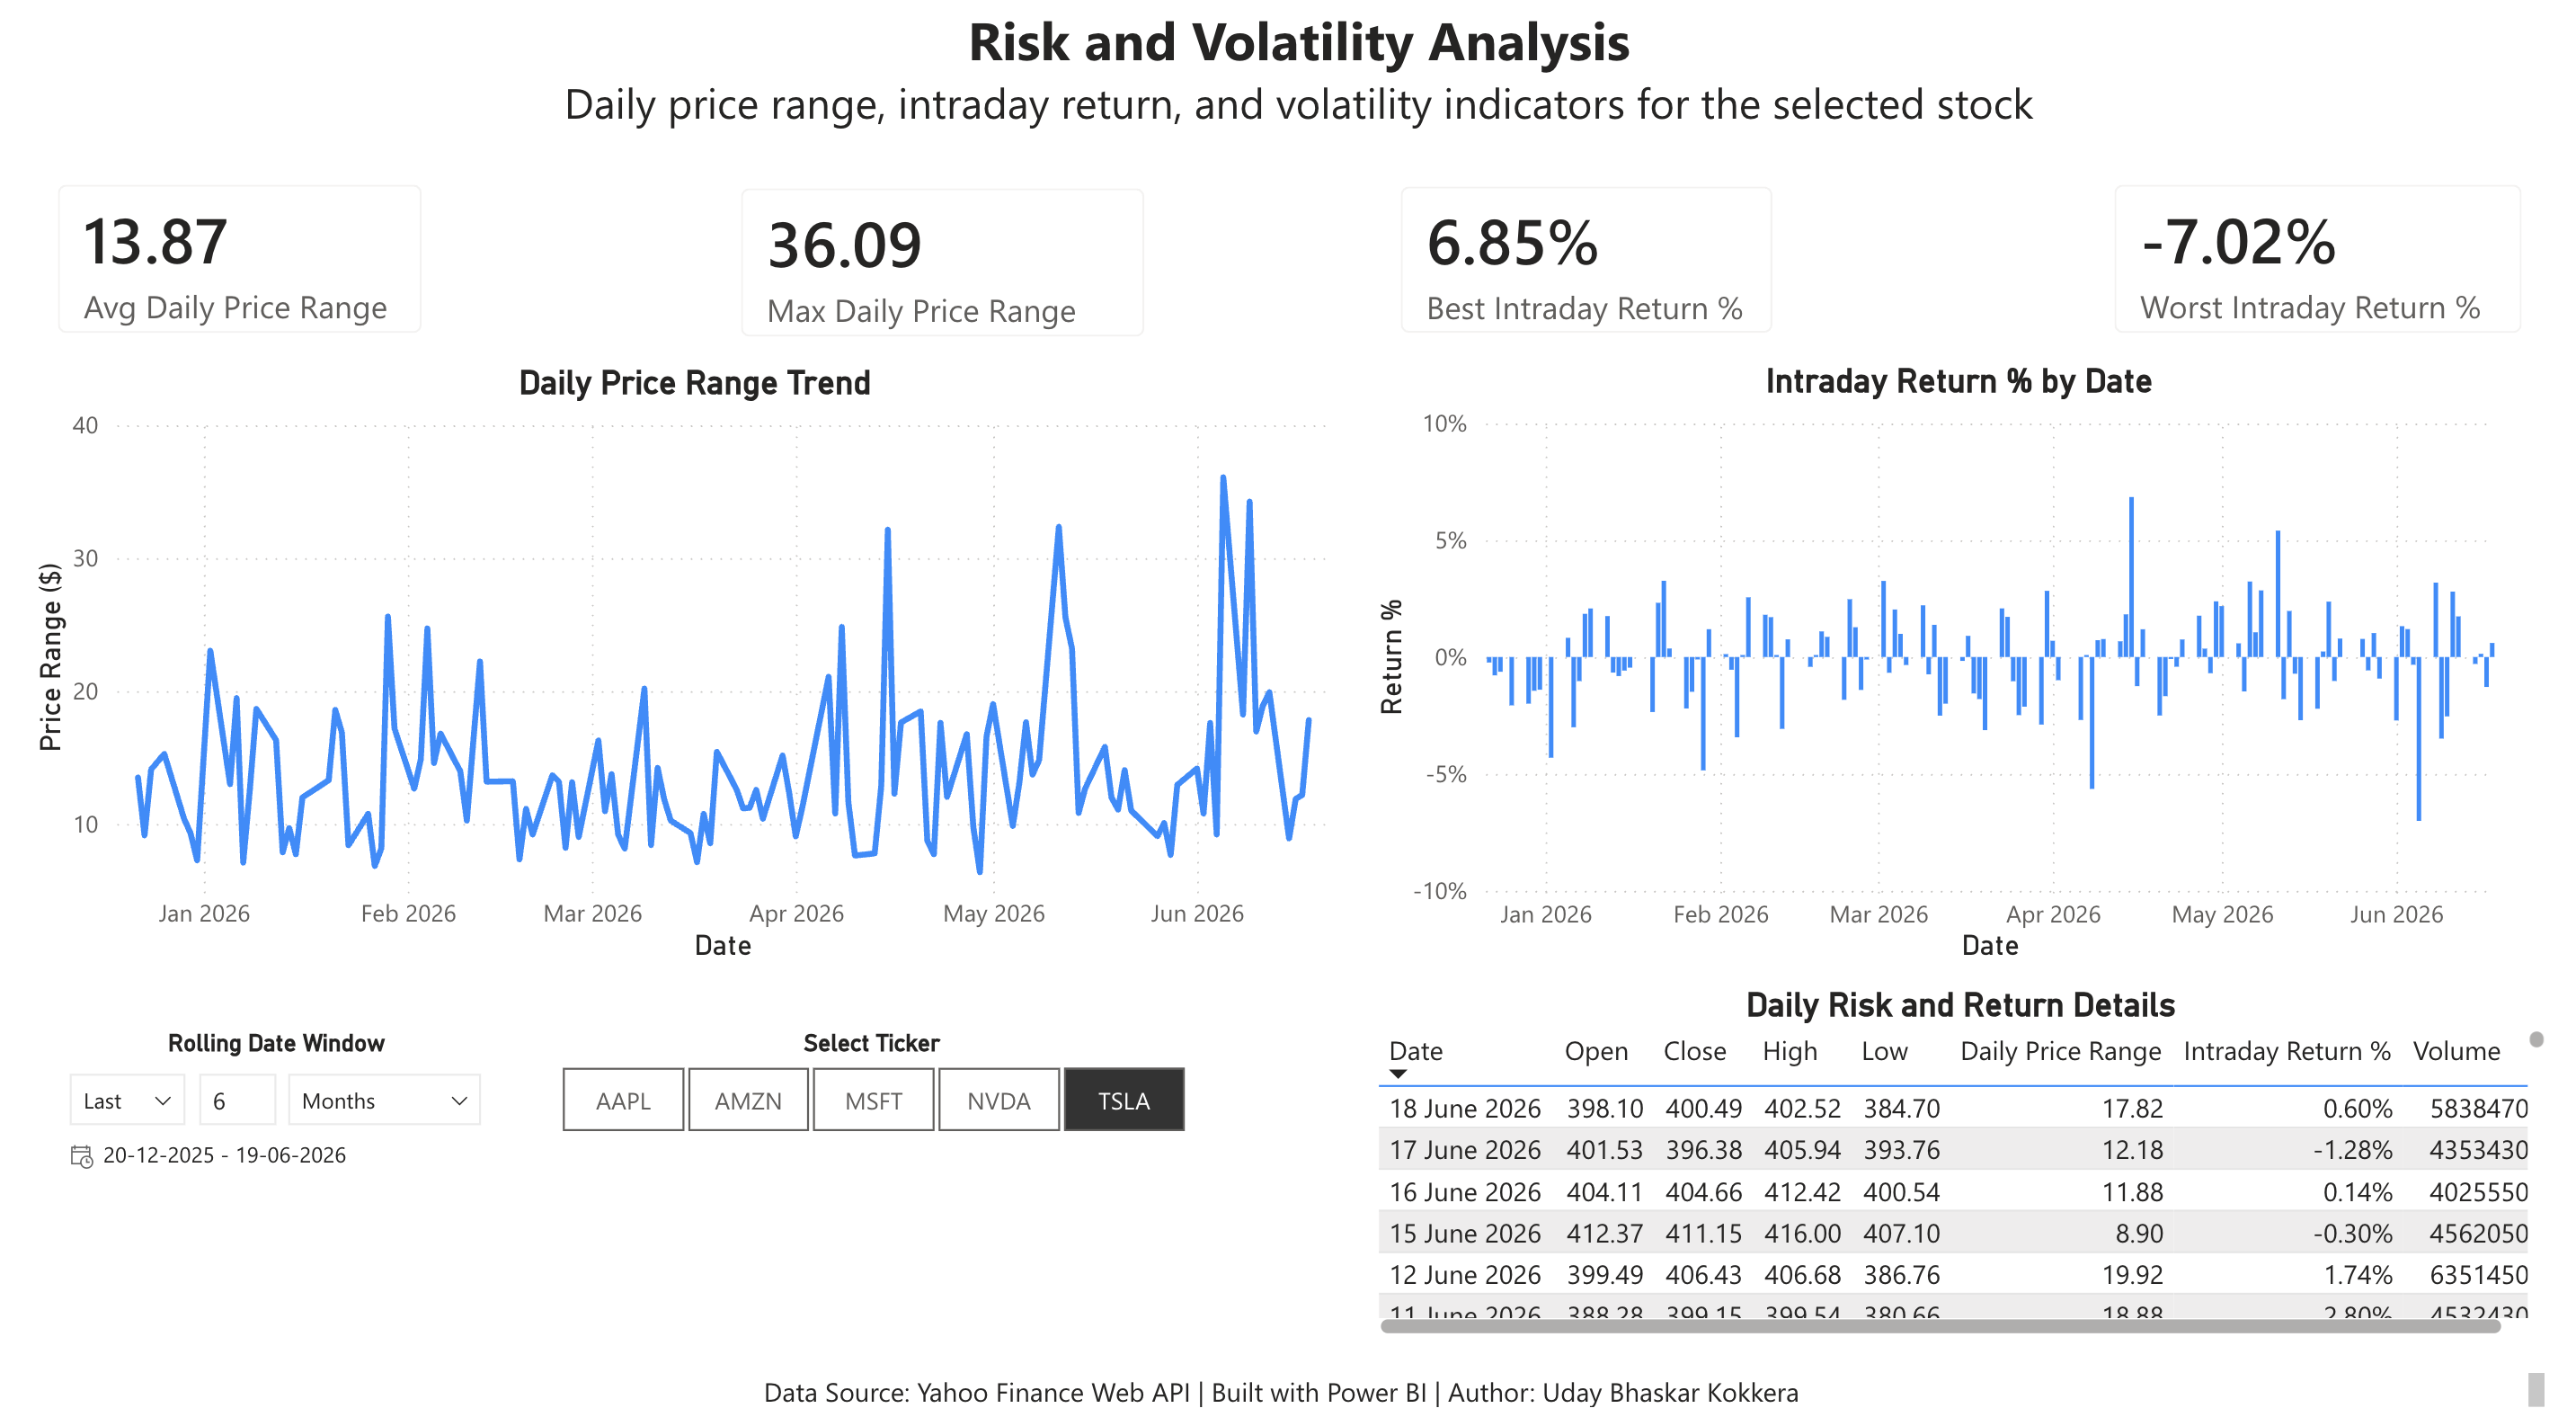

The dashboard page shown, as its layout file describes it:
{"tool":"powerbi","page":{"name":"Risk and Volatility Analysis","canvas":[1280,720],"ordinal":2},"visuals":[{"type":"textbox","box":[10.3,0,1269.3,79.7],"z":0},{"type":"cardVisual","fields":{"Data":["Avg(Stock_Prices.Daily Price Range)"]},"box":[0,79.7,218.3,109.7],"z":1000},{"type":"cardVisual","fields":{"Data":["Max(Stock_Prices.Daily Price Range)"]},"box":[345,81.6,238.1,109.7],"z":2000},{"type":"cardVisual","fields":{"Data":["Max(Stock_Prices.Intraday Return %)"]},"box":[678.8,80.6,222.2,108.8],"z":3000},{"type":"cardVisual","fields":{"Data":["Min(Stock_Prices.Intraday Return %)"]},"box":[1039.7,79.7,240,109.7],"z":4000},{"type":"lineChart","title":"Daily Price Range Trend","fields":{"Category":["Stock_Prices.timestamp"],"Y":["Avg(Stock_Prices.Daily Price Range)"]},"box":[0,189.3,678.6,305.2],"z":5000},{"type":"clusteredColumnChart","title":"Intraday Return % by Date","fields":{"Category":["Stock_Prices.timestamp"],"Y":["Avg(Stock_Prices.Intraday Return %)"]},"box":[678.6,188.3,601,306.2],"z":6000},{"type":"tableEx","title":"Daily Risk and Return Details","fields":{"Values":["Stock_Prices.timestamp","Avg(Stock_Prices.open)","Avg(Stock_Prices.close)","Avg(Stock_Prices.high)","Avg(Stock_Prices.low)","Avg(Stock_Prices.Daily Price Range)","Avg(Stock_Prices.Intraday Return %)","Sum(Stock_Prices.volume)"]},"box":[678.8,503.4,600.9,180],"z":7000},{"type":"slicer","title":"Rolling Date Window","fields":{"Values":["Stock_Prices.timestamp"]},"box":[10.3,525,235.3,89.1],"z":8000},{"type":"slicer","title":"Select Ticker","fields":{"Values":["Stock_Prices.Ticker"]},"box":[246.6,525,364.7,57.2],"z":9000},{"type":"textbox","box":[0,693.1,1279.7,26.9],"z":10000}]}

Visuals, with their boxes in screenshot pixels (x1, y1, x2, y2), scaled from the page's 1280x720 canvas onto the 2576x1426 screenshot:
textbox: region(21, 0, 2575, 158)
cardVisual - Avg(Stock_Prices.Daily Price Range): region(0, 158, 440, 375)
cardVisual - Max(Stock_Prices.Daily Price Range): region(694, 162, 1174, 379)
cardVisual - Max(Stock_Prices.Intraday Return %): region(1366, 160, 1813, 375)
cardVisual - Min(Stock_Prices.Intraday Return %): region(2092, 158, 2575, 375)
"Daily Price Range Trend" lineChart: region(0, 375, 1365, 979)
"Intraday Return % by Date" clusteredColumnChart: region(1365, 373, 2575, 979)
"Daily Risk and Return Details" tableEx: region(1366, 997, 2575, 1353)
"Rolling Date Window" slicer: region(21, 1039, 494, 1217)
"Select Ticker" slicer: region(496, 1039, 1230, 1153)
textbox: region(0, 1373, 2575, 1425)
